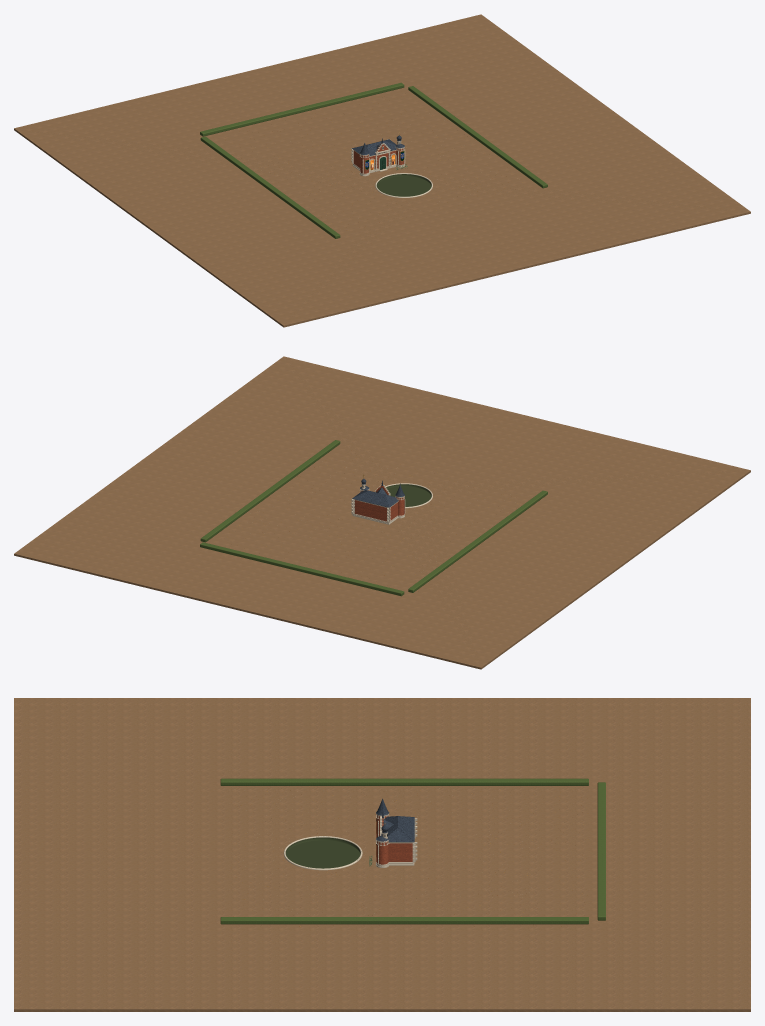
3 views of the same model, one above another, from view 1: azimuth 30°, elevation 25°; view 2: azimuth 150°, elevation 25°; view 3: azimuth 270°, elevation 25° (orthographic). The views are drawn at different scales.
Visible parts, largest first — view 1: Park ground | real-scale gravel, Formal long clipped hedge, Fountain basin bed, Alternating corner quoin, Brick above arch; view 2: Park ground | real-scale gravel, Formal long clipped hedge, Brick above arch, Central front needle, Alternating corner quoin, Fountain basin bed; view 3: Park ground | real-scale gravel, Formal long clipped hedge, Fountain basin bed, Alternating corner quoin, Central front needle, Brick above arch.
Boxes of the visible parts, left/top/right/bottom form: Park ground | real-scale gravel: left=14, top=14, right=750, bottom=327; Formal long clipped hedge: left=200, top=82, right=547, bottom=238; Fountain basin bed: left=376, top=174, right=431, bottom=196; Alternating corner quoin: left=351, top=139, right=432, bottom=197; Brick above arch: left=353, top=143, right=404, bottom=173; Park ground | real-scale gravel: left=14, top=356, right=750, bottom=669; Formal long clipped hedge: left=200, top=440, right=547, bottom=596; Brick above arch: left=354, top=485, right=404, bottom=521; Central front needle: left=352, top=478, right=404, bottom=507; Alternating corner quoin: left=351, top=483, right=432, bottom=524; Fountain basin bed: left=386, top=484, right=431, bottom=506; Park ground | real-scale gravel: left=14, top=698, right=750, bottom=1011; Formal long clipped hedge: left=220, top=778, right=605, bottom=924; Fountain basin bed: left=285, top=837, right=360, bottom=868; Alternating corner quoin: left=283, top=814, right=417, bottom=870; Central front needle: left=376, top=798, right=414, bottom=842; Brick above arch: left=376, top=815, right=412, bottom=864.
Size of the model in its own units: 132 by 9.79 by 132.
Materials: 23 (8 with a texture image).
